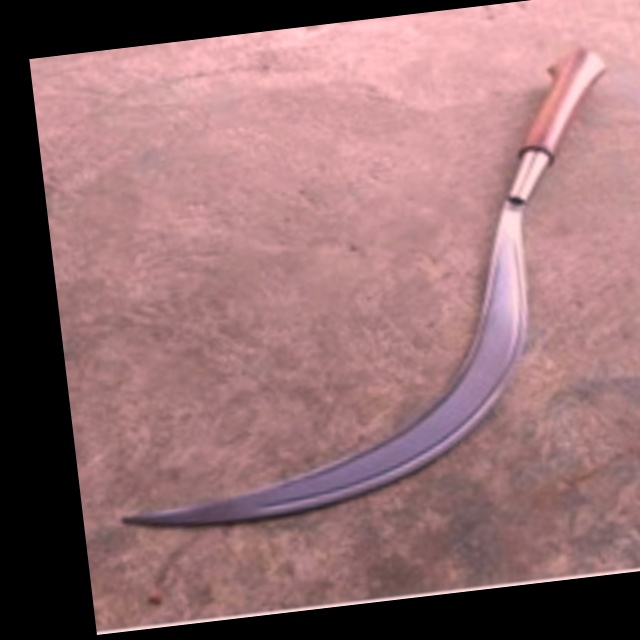Sharp-Object: (67, 40, 640, 540)
